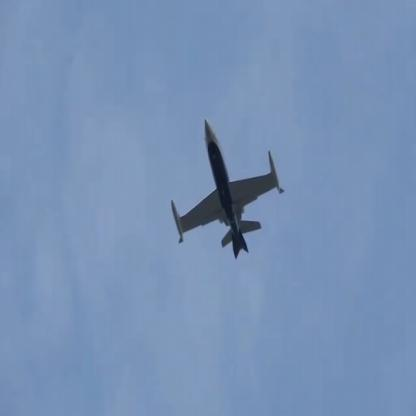CIV_Plane: (165, 118, 285, 261)
